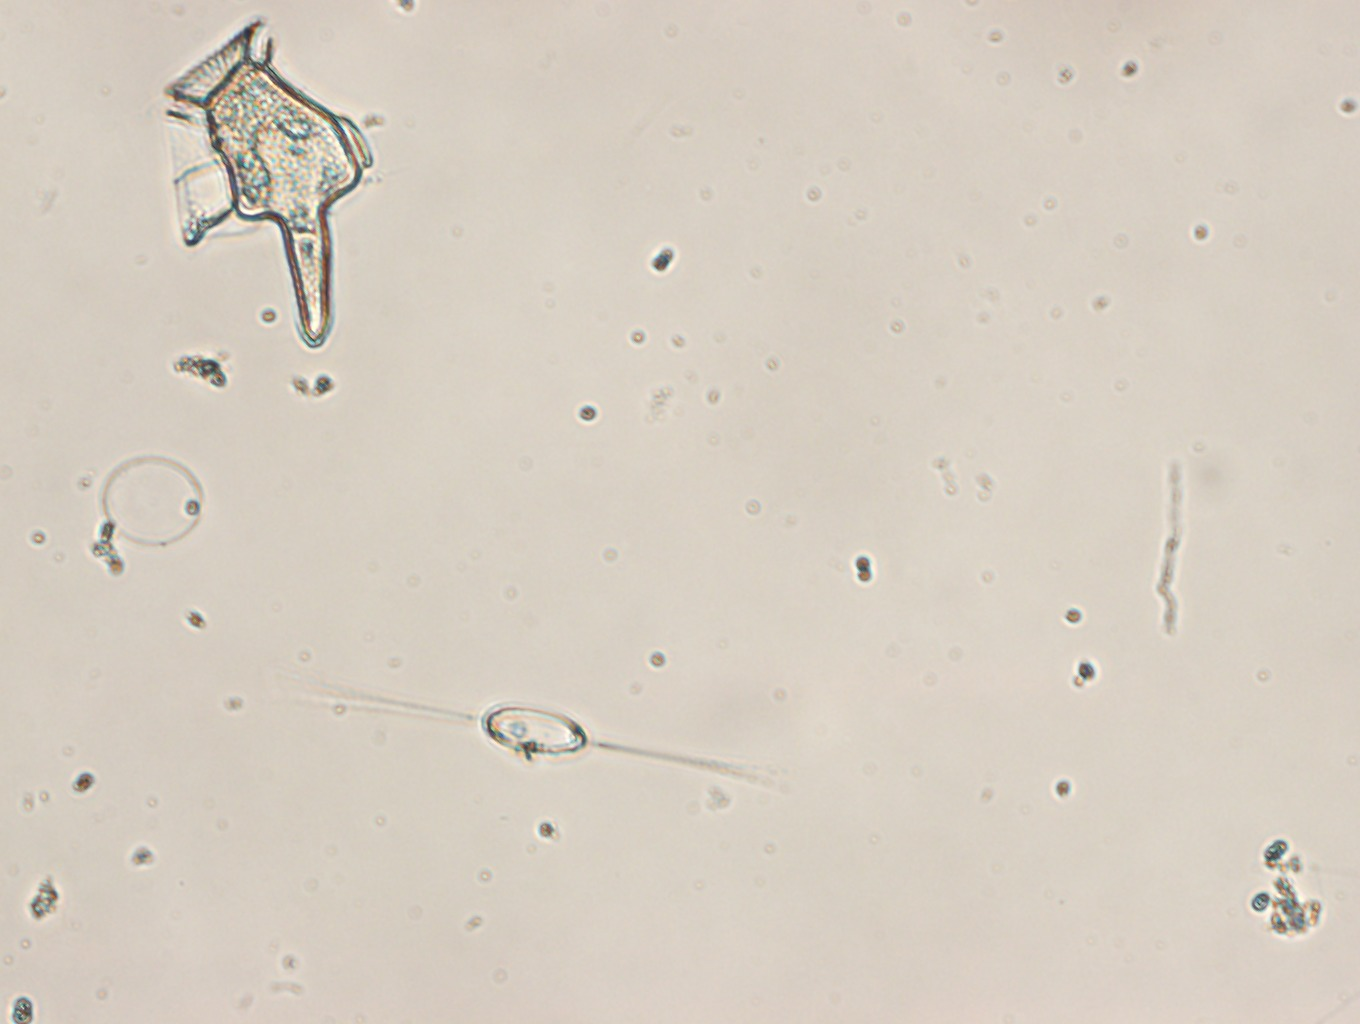chaetoceros: (282, 677, 787, 796)
dinophysis caudata: (163, 16, 374, 353)
